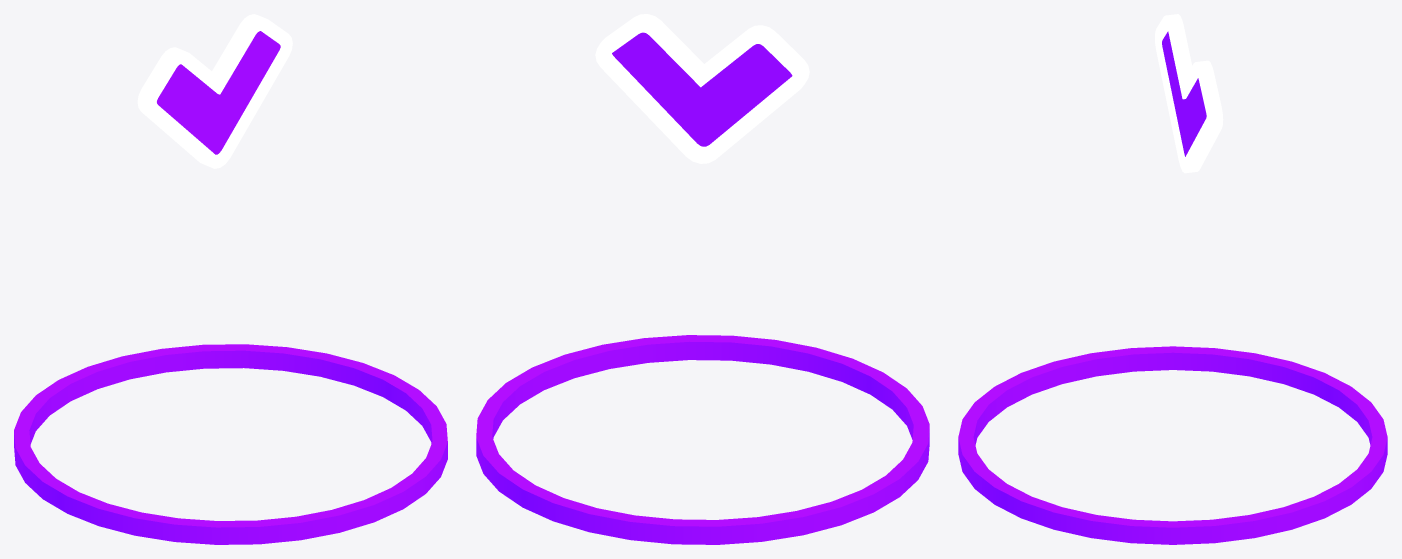
File: violetPod.glb
The picture shows the model from 3 angles, left to right: view 1: azimuth 30°, elevation 25°; view 2: azimuth 150°, elevation 25°; view 3: azimuth 270°, elevation 25°; orthographic projection. The views are drawn at different scales.
Visible parts, largest first — view 1: violetPod; view 2: violetPod; view 3: violetPod.
Boxes of the visible parts, x1,y1,x2,y2 form: violetPod: (14,14,447,544); violetPod: (476,14,929,544); violetPod: (958,14,1387,544).
Bounding box in the file's own units: 6.59 × 6.96 × 6.59.
